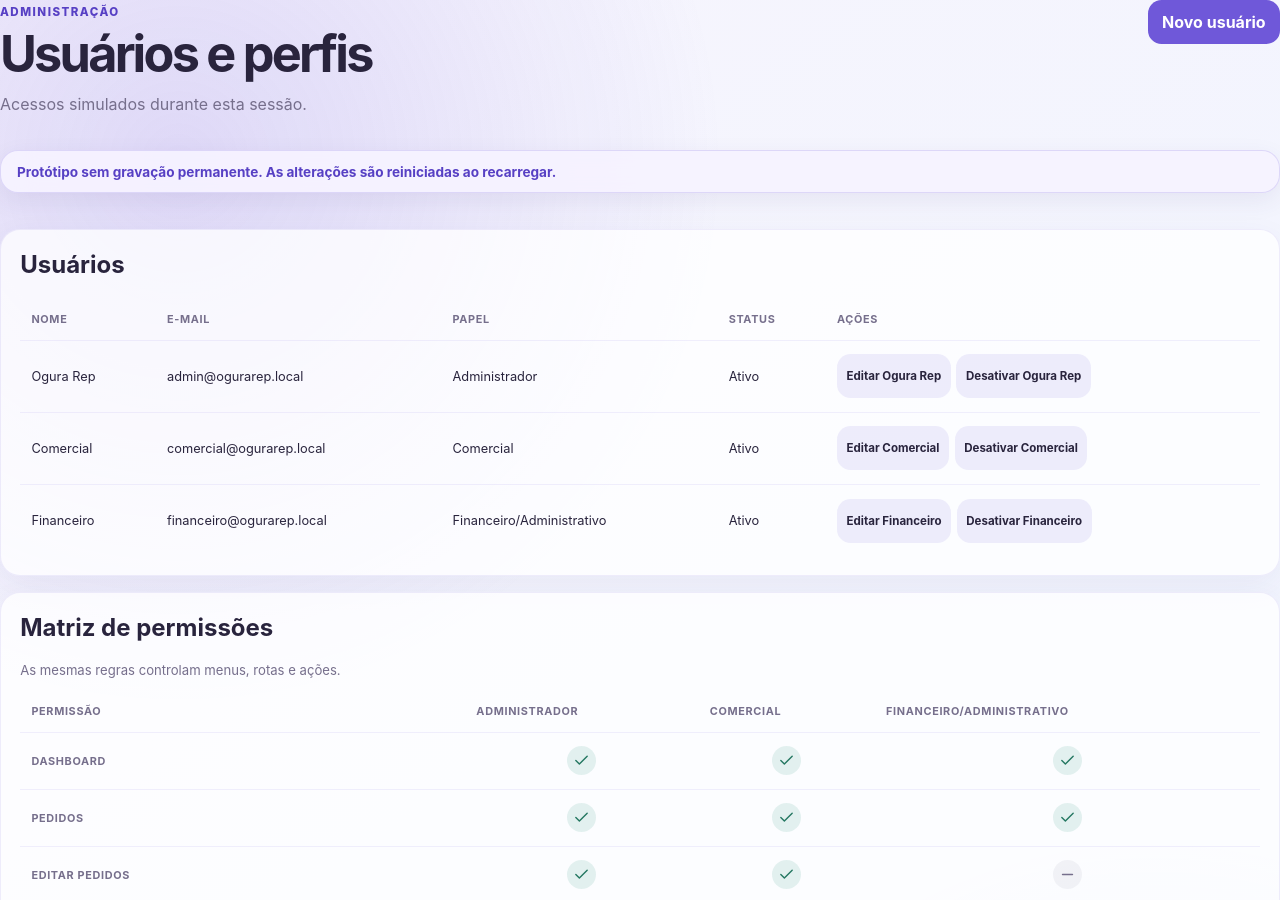
Test: administração de usuários › exige confirmação antes de desativar e atualiza a sessão
The image size is (1280, 900).
Click the button "Desativar Comercial" at coordinates (1021, 448), box [955, 426, 1087, 470]
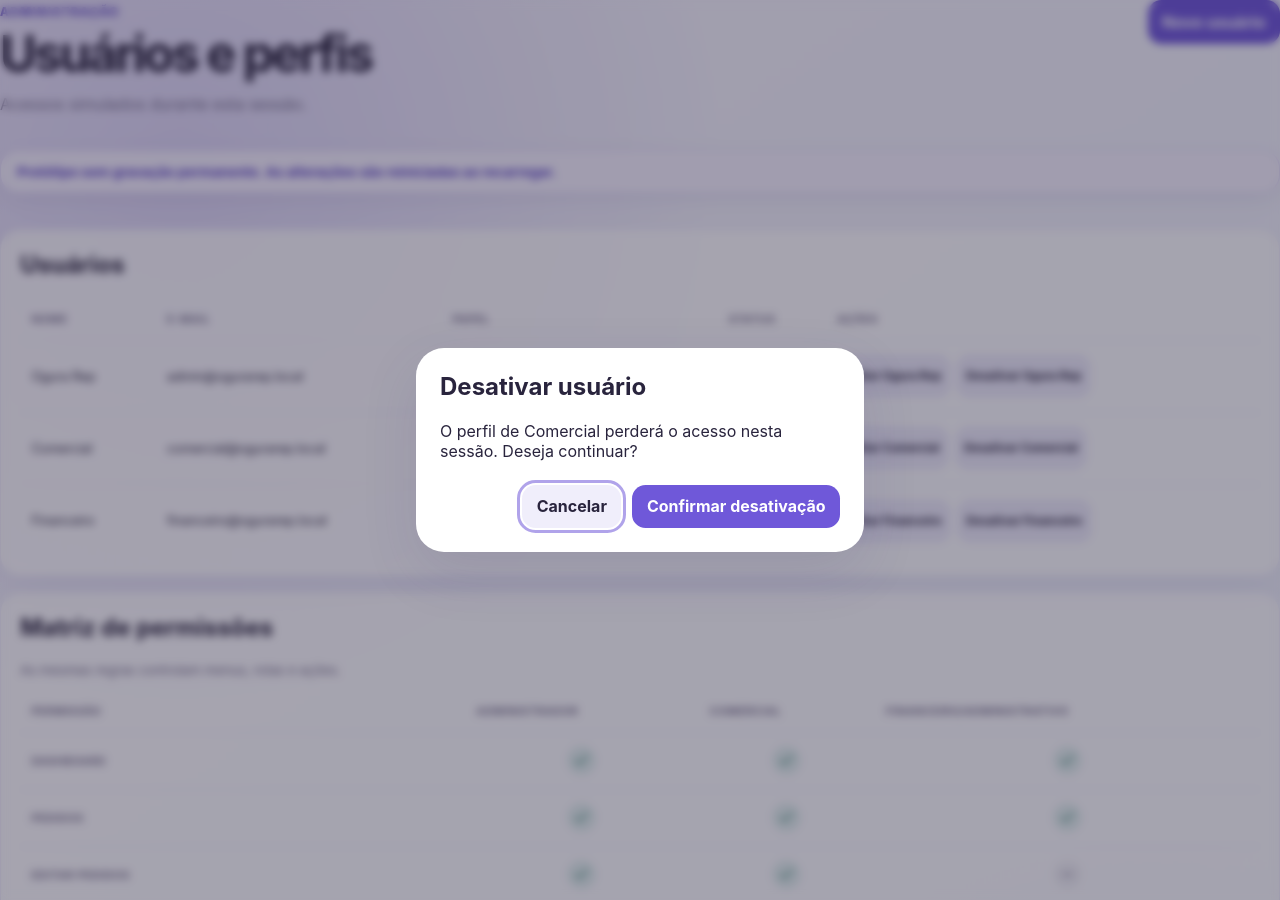
Expected: the text "Ativo" is shown, [718, 412, 826, 484]
Now the dialog "Desativar usuário" is shown, box [416, 348, 864, 552]
Click the button "Confirmar desativação" at coordinates (736, 506), box [632, 485, 840, 528]
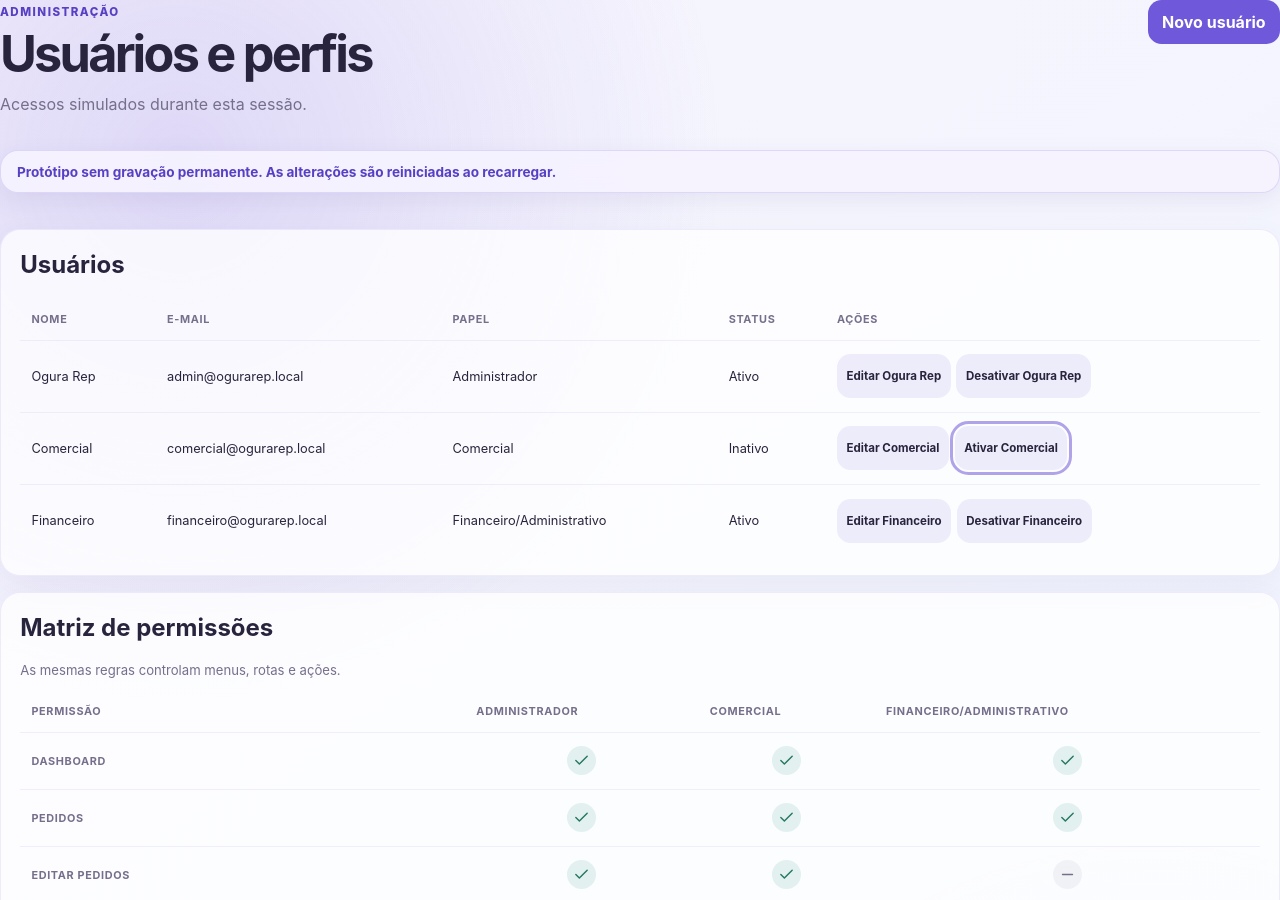
Now the text "Inativo" is shown, box [718, 412, 826, 484]
